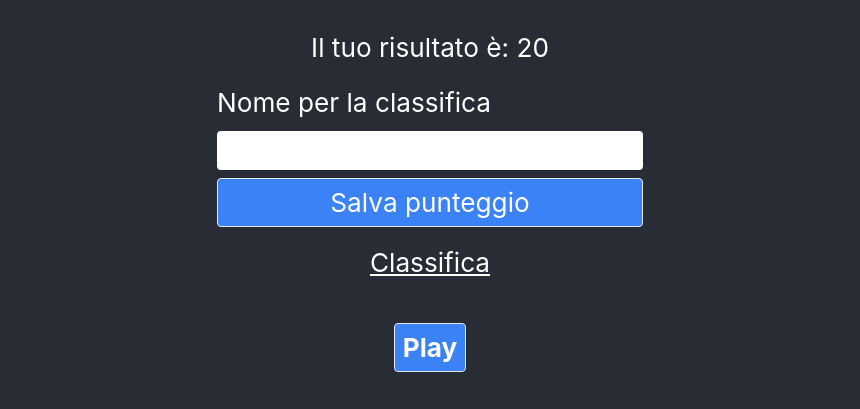
Test: guest enters a name and a failed save can be retried with the same submission id
Type "  Anna  " into the field labelled "Nome per la classifica" at (430,150), box [217,131,643,170]
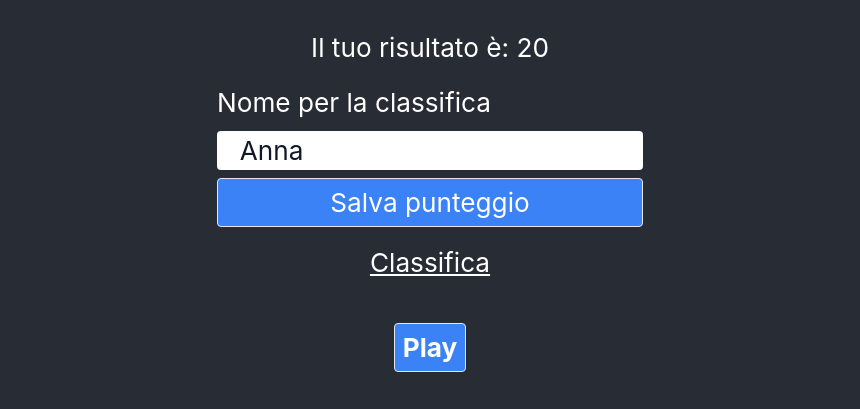
Click the button "Salva punteggio" at (430,203), box [217,178,643,227]
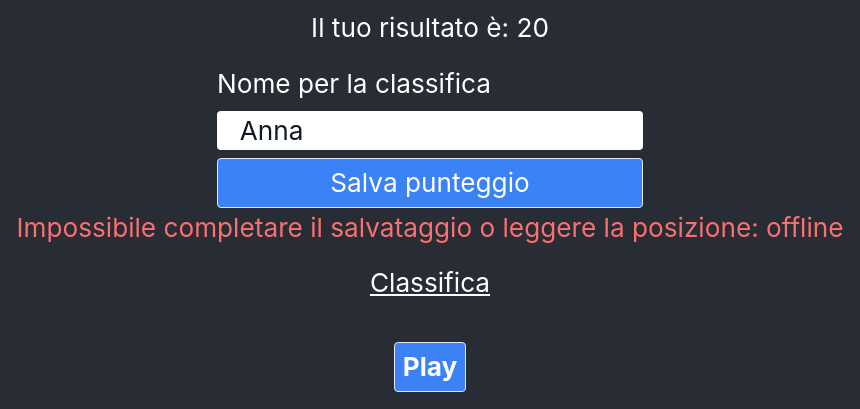
Check: the message shows "offline", box [16,212,844,243]
Click the button "Salva punteggio" at (430,183), box [217,158,643,208]
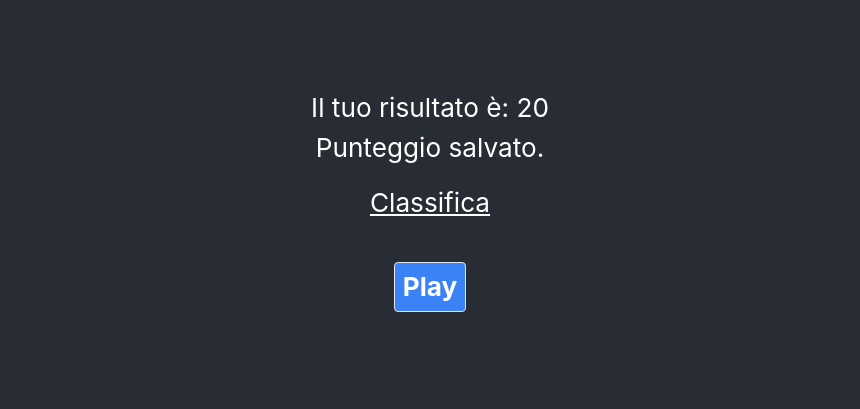
Check: the text "Punteggio salvato." is shown, box [316,128,544,167]
